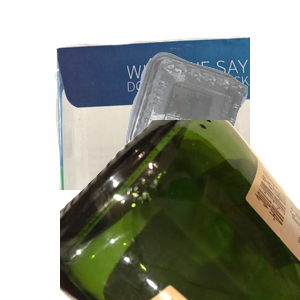glass: (60, 120, 300, 300)
paper: (52, 34, 292, 214)
plastic: (123, 50, 300, 214)
trash: (66, 173, 272, 300)
